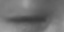LeftEyeFatigue: (1, 6, 51, 32)
